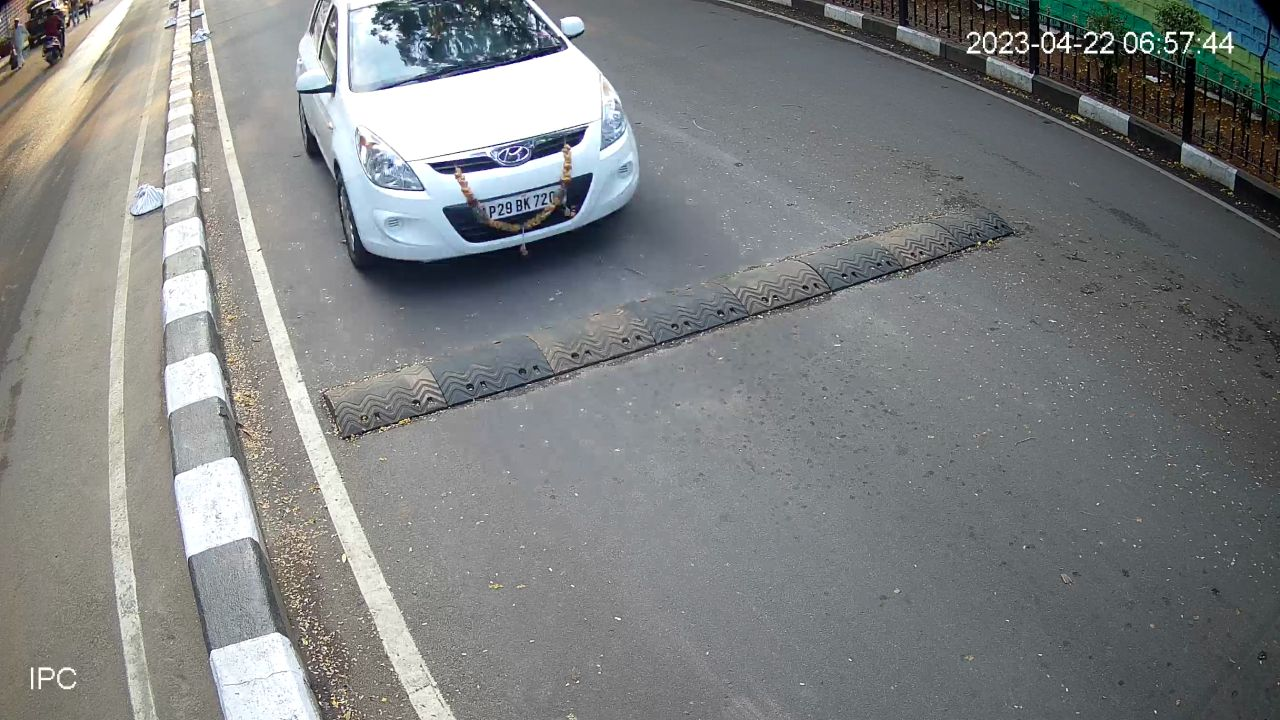license_plate: (469, 181, 570, 228)
